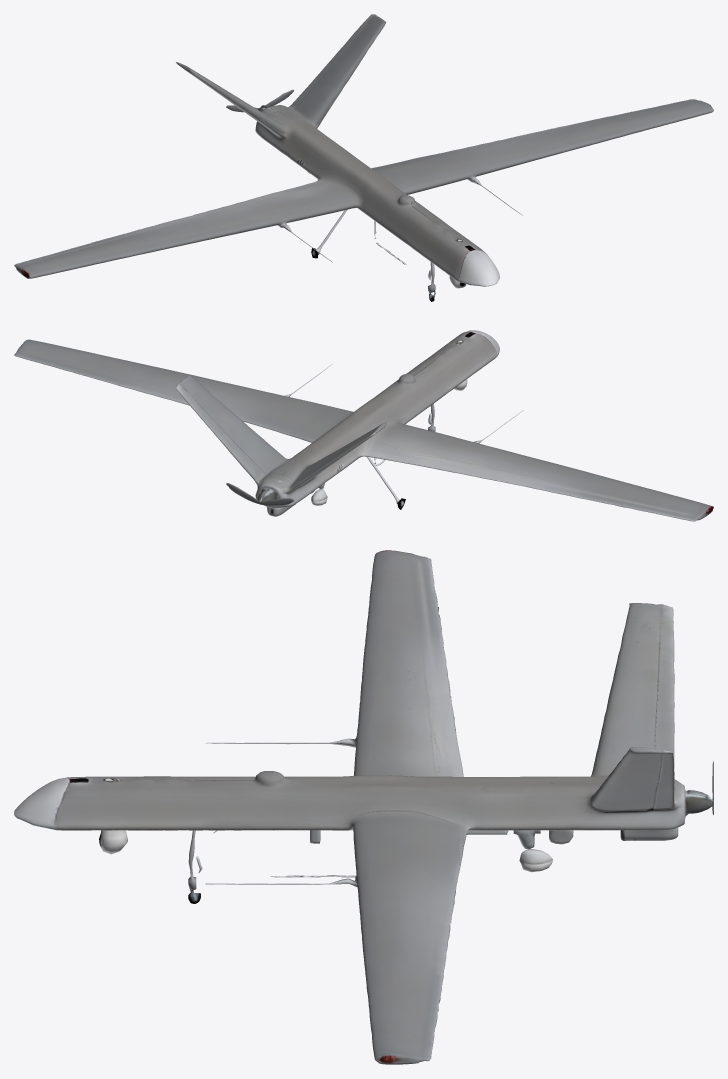
Rendered from orion-e.glb.
3 renders of one model, top to bottom at view 1: azimuth 30°, elevation 25°; view 2: azimuth 150°, elevation 25°; view 3: azimuth 270°, elevation 25°, orthographic. The views are drawn at different scales.
Parts seen in each view (by area): view 1: Object_2, Object_3; view 2: Object_2, Object_3; view 3: Object_2, Object_3.
Boxes of the visible parts, x1,y1,x2,y2 form: Object_2: (14,14,713,286); Object_3: (226,89,466,301); Object_2: (14,330,713,521); Object_3: (226,379,467,516); Object_2: (14,550,712,1064); Object_3: (99,761,713,903).
Size of the model in its own units: 1.9 by 0.4025 by 1.11.
Materials: 1 (1 with a texture image).
